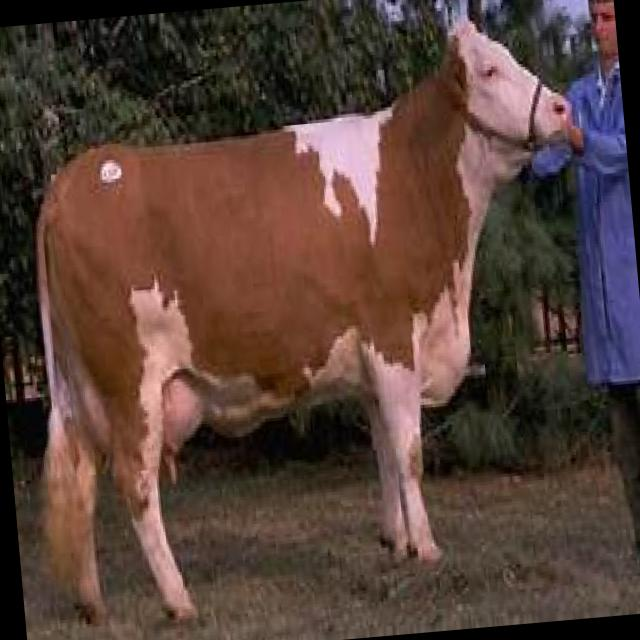animal: (0, 9, 616, 625)
